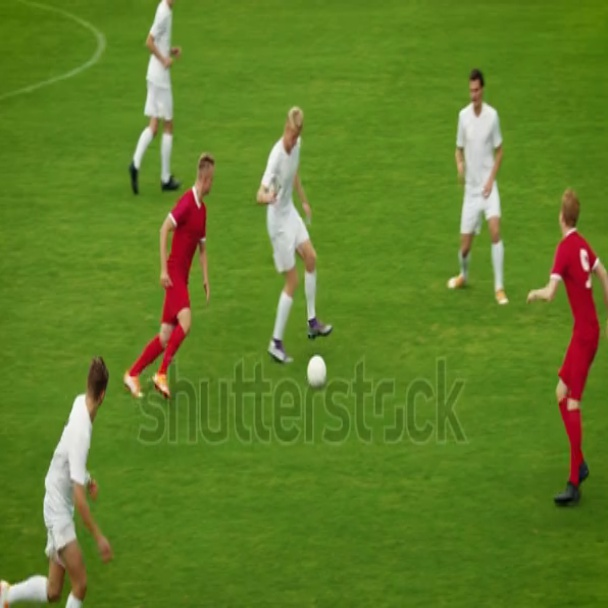ball: (302, 350, 332, 395)
